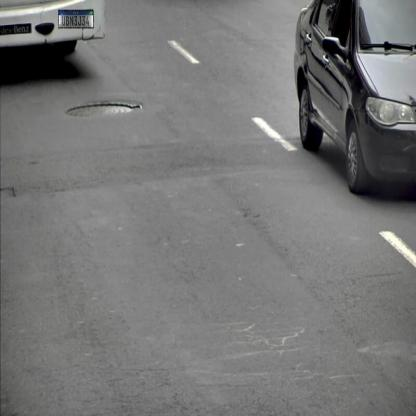PlacaM: (58, 10, 94, 28)
